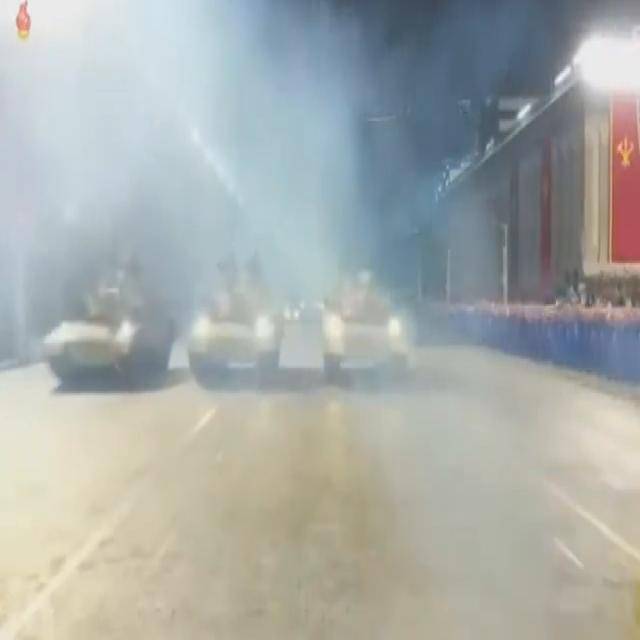north tank: (34, 246, 180, 394), (185, 245, 297, 391), (314, 255, 416, 387)
